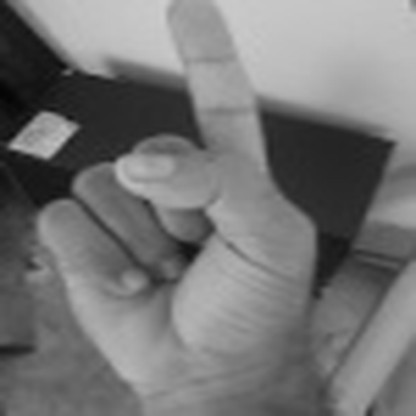d: (30, 1, 326, 392)
